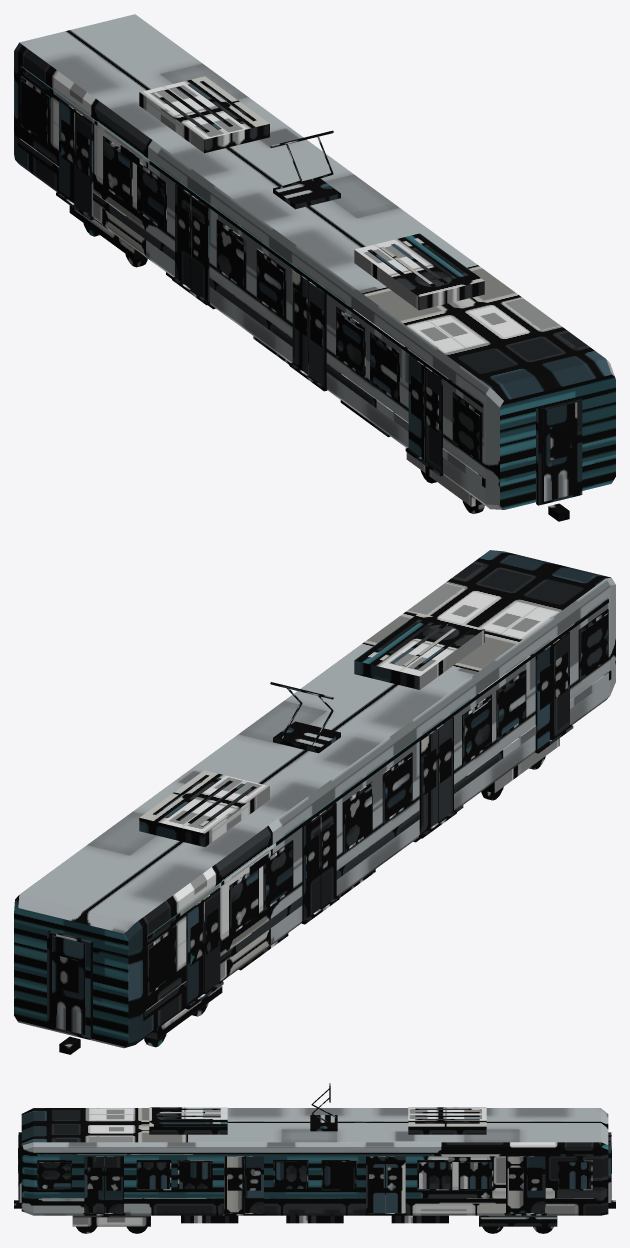
Rendered from urban_trailer.obj.
The picture shows the model from 3 angles, top to bottom: view 1: azimuth 30°, elevation 25°; view 2: azimuth 150°, elevation 25°; view 3: azimuth 270°, elevation 25°; orthographic projection. The views are drawn at different scales.
Parts seen in each view (by area): view 1: urban_trailer; view 2: urban_trailer; view 3: urban_trailer.
Boxes of the visible parts, x1,y1,x2,y2 form: urban_trailer: (14,14,615,521); urban_trailer: (14,550,615,1054); urban_trailer: (14,1083,615,1233).
Size of the model in its own units: 3.08 by 4.83 by 20.
Materials: 1 (1 with a texture image).
